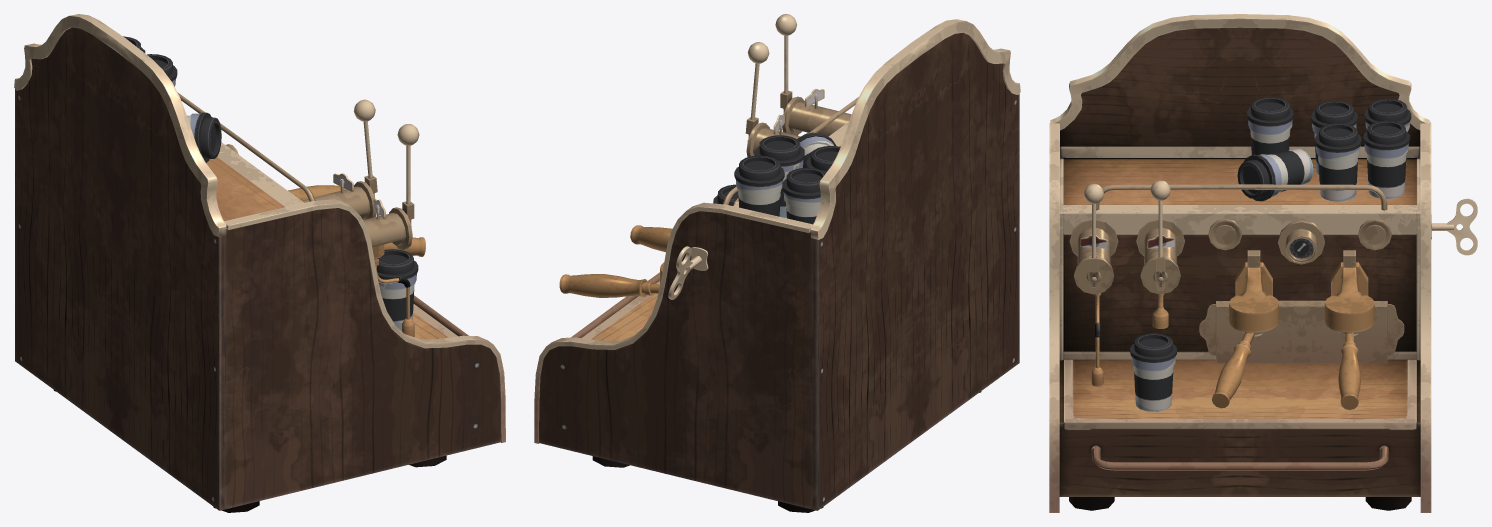
Rendered from machine2.glb.
3 renders of one model, left to right at view 1: azimuth 30°, elevation 25°; view 2: azimuth 150°, elevation 25°; view 3: azimuth 270°, elevation 25°, orthographic. The views are drawn at different scales.
Visible parts, largest first — view 1: CoffeeMachine.001, Coffee_cup.007, Coffee_cup.005; view 2: CoffeeMachine.001, Coffee_cup.002, Coffee_cup.001, Coffee_cup.004, Coffee_cup.003, Coffee_cup.005; view 3: CoffeeMachine.001, Coffee_cup.007, Coffee_cup.002, Coffee_cup.004, Coffee_cup.005, Coffee_cup.006, Coffee_cup.003, Coffee_cup.001.
Part boxes in pixels (x1,y1,x2,y2): CoffeeMachine.001: [14, 14, 505, 512]; Coffee_cup.007: [377, 249, 418, 330]; Coffee_cup.005: [187, 112, 221, 162]; CoffeeMachine.001: [534, 14, 1020, 512]; Coffee_cup.002: [734, 155, 784, 216]; Coffee_cup.001: [782, 167, 825, 224]; Coffee_cup.004: [755, 135, 804, 217]; Coffee_cup.003: [806, 146, 840, 172]; Coffee_cup.005: [797, 132, 836, 167]; CoffeeMachine.001: [1049, 14, 1477, 512]; Coffee_cup.007: [1130, 333, 1176, 411]; Coffee_cup.002: [1363, 120, 1410, 198]; Coffee_cup.004: [1314, 123, 1361, 201]; Coffee_cup.005: [1237, 148, 1313, 201]; Coffee_cup.006: [1247, 97, 1293, 155]; Coffee_cup.003: [1311, 100, 1357, 174]; Coffee_cup.001: [1364, 98, 1411, 169].
Bounding box in the file's own units: 0.3485 × 0.4446 × 0.4491.
1 material, 1 textured.
